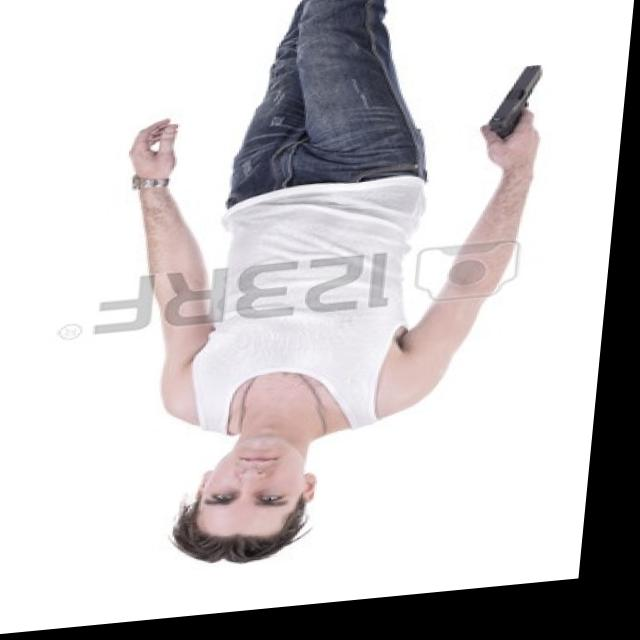handgun: (489, 73, 559, 152)
